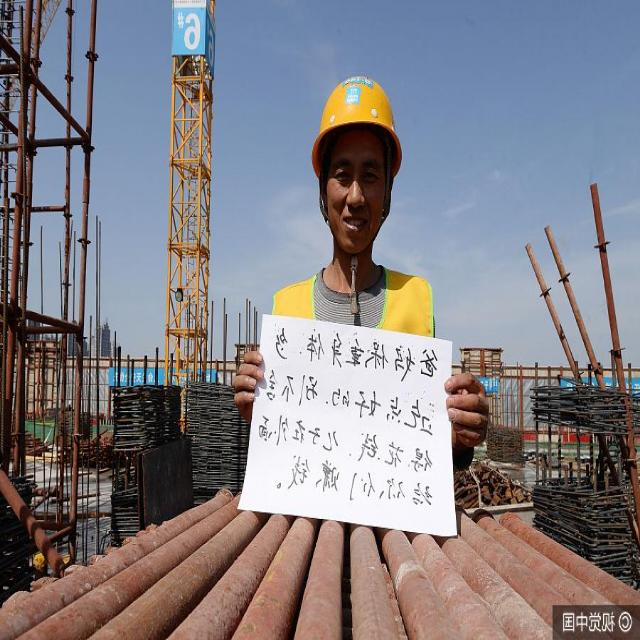Reflective-Jacket: (269, 266, 434, 330)
Safety-Helmet: (311, 69, 404, 155)
